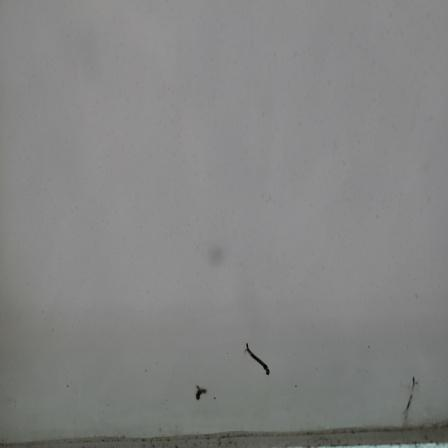Jentik-Nyamuk: (243, 341, 273, 377), (190, 384, 212, 403)
